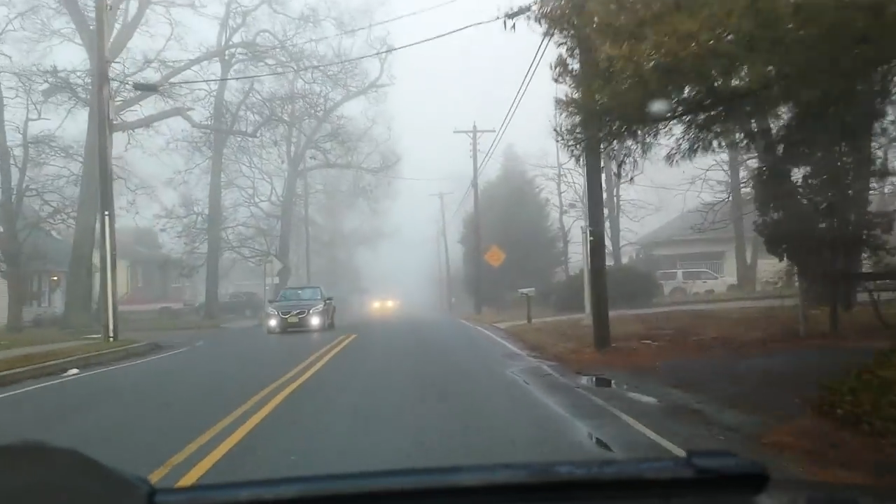car: (266, 283, 336, 334), (107, 282, 187, 318), (653, 267, 742, 299), (195, 288, 266, 320), (369, 296, 399, 314)
